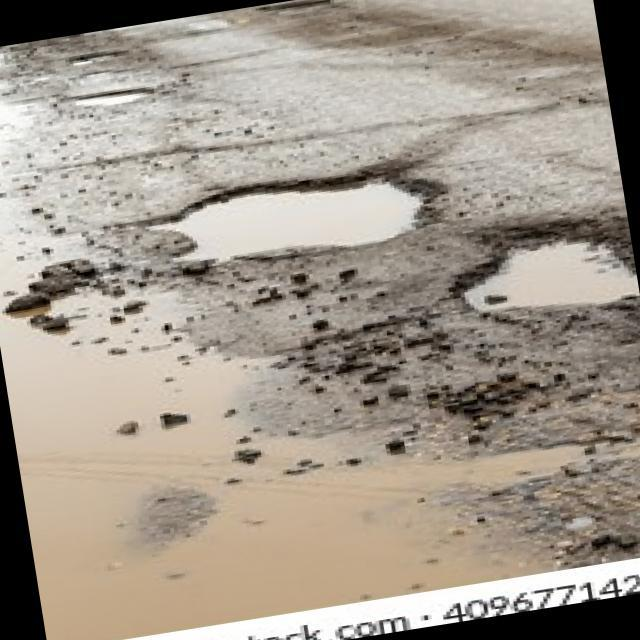Pothole: (137, 153, 444, 281), (448, 210, 640, 326), (61, 84, 156, 115), (68, 46, 126, 66)
